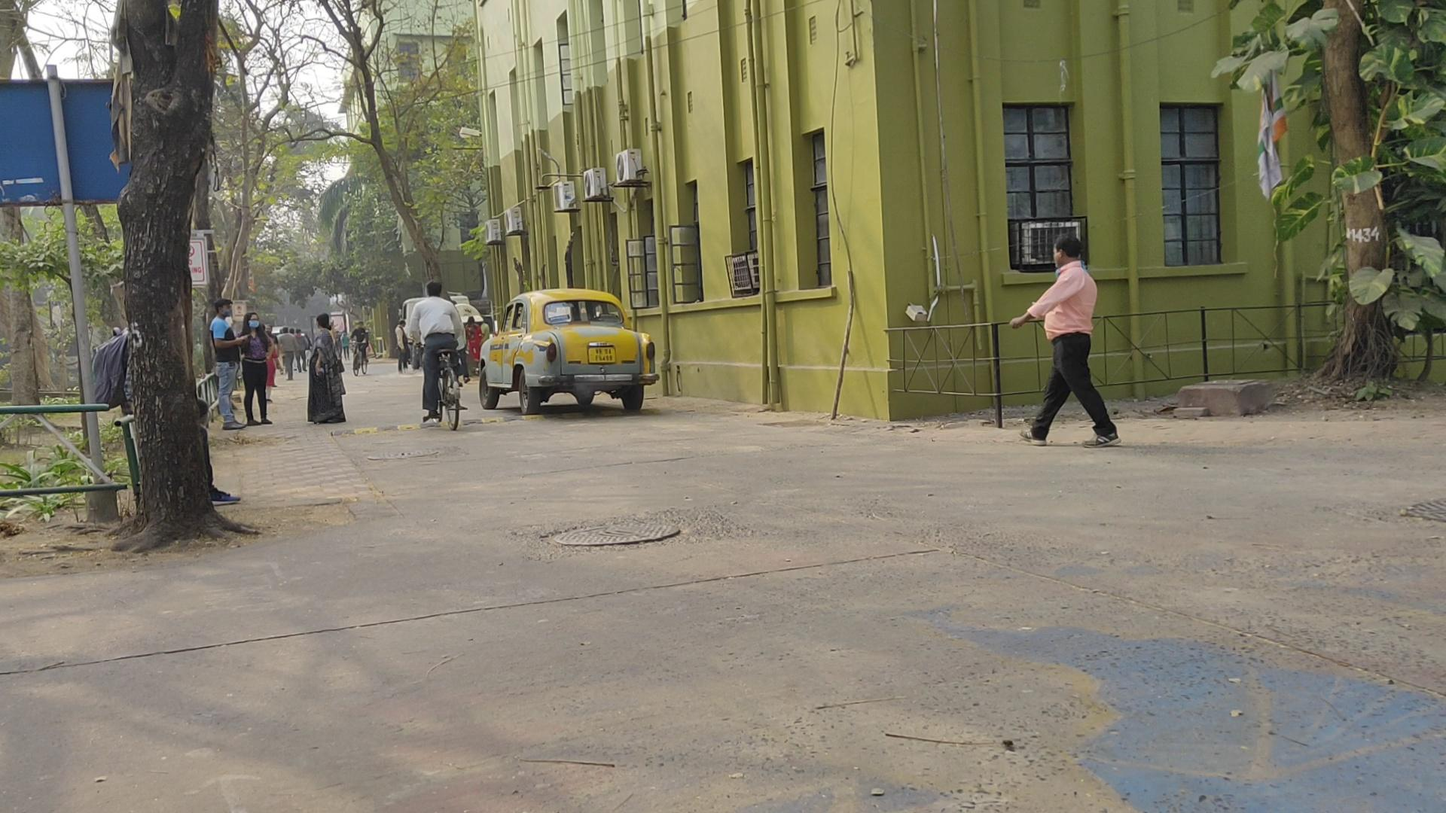bike: (412, 282, 467, 431), (352, 320, 370, 378)
car: (478, 290, 658, 416)
